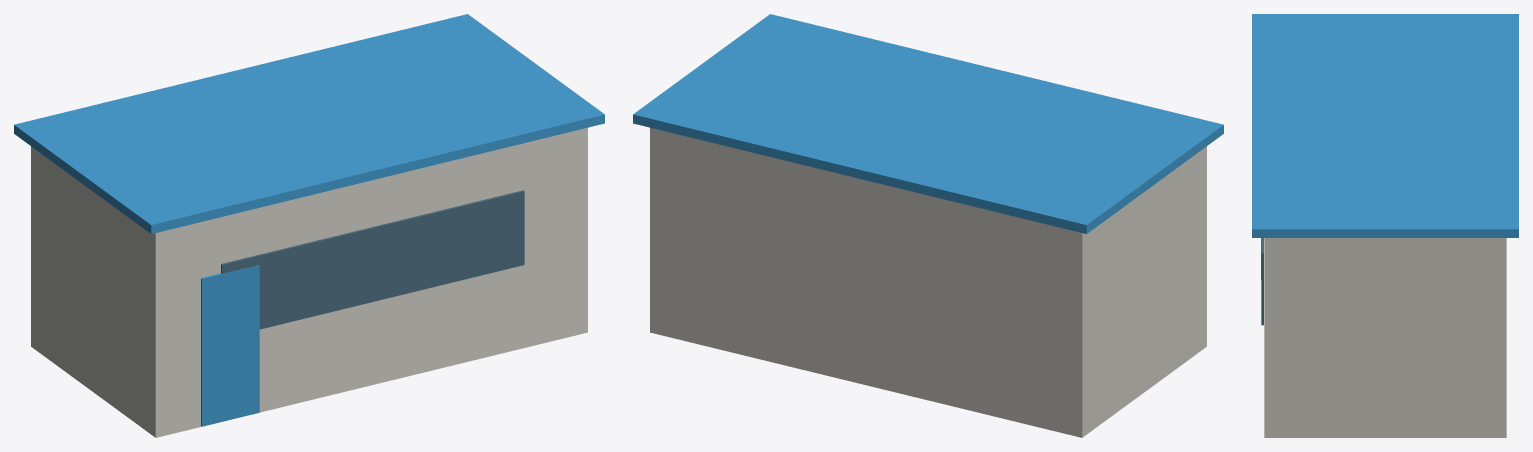
Rendered from stock-car-oval-speedway-restroom-block-52c62453.glb.
3 views of the same model, side by side, from view 1: azimuth 30°, elevation 25°; view 2: azimuth 150°, elevation 25°; view 3: azimuth 270°, elevation 25° (orthographic). The views are drawn at different scales.
Parts seen in each view (by area): view 1: restroom-block; view 2: restroom-block; view 3: restroom-block.
Part boxes in pixels (x1,y1,x2,y2): restroom-block: (14,14,604,437); restroom-block: (633,14,1223,437); restroom-block: (1252,14,1518,437).
Size of the model in its own units: 6.3 by 2.92 by 3.3.
